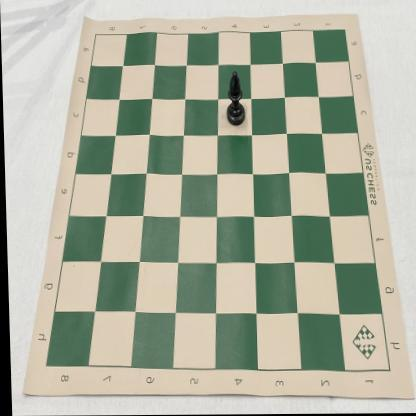black-bishop: (224, 71, 245, 127)
